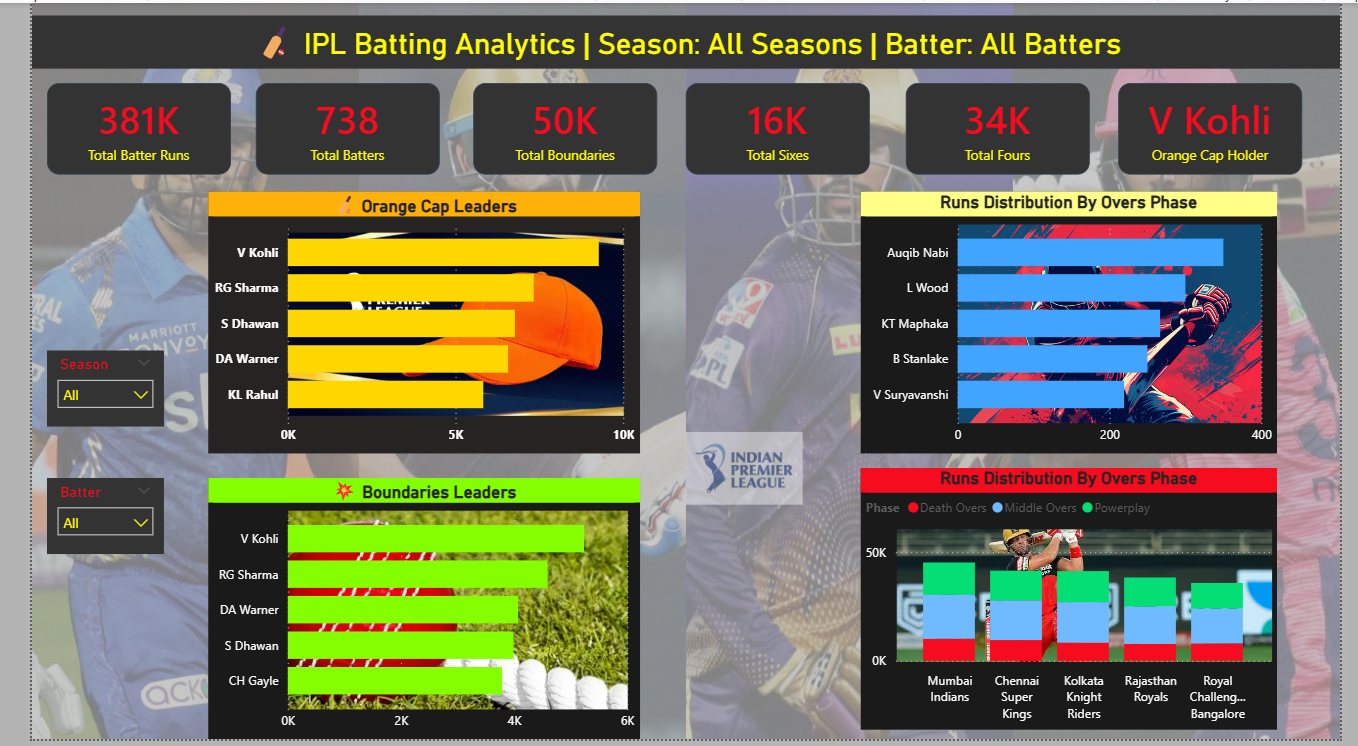

What the dashboard file says about the page in this screenshot:
{"tool":"powerbi","page":{"name":"Batsmen Analytics","canvas":[1280,720],"ordinal":1},"visuals":[{"type":"clusteredBarChart","title":"🏏 Orange Cap Leaders","fields":{"Category":["Fact_BallbyBall.Batter"],"Y":["Fact_BallbyBall.Total Batter Runs"]},"box":[171.9,184.3,422.2,255.8],"z":0},{"type":"clusteredBarChart","title":" 💥 Boundaries Leaders","fields":{"Category":["Fact_BallbyBall.Batter"],"Y":["Fact_BallbyBall.Boundary Runs"]},"box":[171.9,464.8,422.2,255.8],"z":1000},{"type":"columnChart","title":"Runs Distribution By Overs Phase","fields":{"Category":["Fact_BallbyBall.BattingTeam"],"Series":["Fact_BallbyBall.Phase"],"Y":["Fact_BallbyBall.Phase Runs"]},"box":[811.3,455.2,407,255.8],"z":2000},{"type":"clusteredBarChart","title":"Runs Distribution By Overs Phase","fields":{"Category":["Fact_BallbyBall.Batter"],"Y":["Fact_BallbyBall.Strike Rate"]},"box":[811.3,184.3,407,255.8],"z":3000},{"type":"card","fields":{"Values":["Fact_Match.Total Batters"]},"box":[218.7,78.4,180.1,89.4],"z":4000},{"type":"card","fields":{"Values":["Fact_BallbyBall.Total Batter Runs"]},"box":[15.1,78.4,180.1,89.4],"z":5000},{"type":"card","fields":{"Values":["Fact_Match.Total Boundaries"]},"box":[431.8,78.4,180.1,89.4],"z":6000},{"type":"card","fields":{"Values":["Fact_Match.Total Sixes"]},"box":[639.5,78.4,180.1,89.4],"z":7000},{"type":"card","fields":{"Values":["Fact_Match.Total Fours"]},"box":[855.4,78.4,180.1,89.4],"z":8000},{"type":"card","fields":{"Values":["Fact_Match.Orange Cap Holder"]},"box":[1063,78.4,180.1,89.4],"z":9000},{"type":"slicer","fields":{"Values":["Fact_Match.Season"]},"box":[15.1,339.7,114.1,74.3],"z":10000},{"type":"slicer","fields":{"Values":["Fact_BallbyBall.Batter"]},"box":[15.1,464.8,114.1,74.3],"z":11000},{"type":"image","box":[639.5,385,114.1,140.3],"z":12000},{"type":"card","fields":{"Values":["Fact_Match.Batting Dashboard Title"]},"box":[0,12.4,1280.3,52.3],"z":13000}]}

Visuals, with their boxes in screenshot pixels (x1, y1, x2, y2), scaled from the page's 1280x720 canvas onto the 1358x746 screenshot:
"🏏 Orange Cap Leaders" clusteredBarChart: region(182, 191, 630, 456)
" 💥 Boundaries Leaders" clusteredBarChart: region(182, 482, 630, 745)
"Runs Distribution By Overs Phase" columnChart: region(861, 472, 1293, 737)
"Runs Distribution By Overs Phase" clusteredBarChart: region(861, 191, 1293, 456)
card - Fact_Match.Total Batters: region(232, 81, 423, 174)
card - Fact_BallbyBall.Total Batter Runs: region(16, 81, 207, 174)
card - Fact_Match.Total Boundaries: region(458, 81, 649, 174)
card - Fact_Match.Total Sixes: region(678, 81, 870, 174)
card - Fact_Match.Total Fours: region(908, 81, 1099, 174)
card - Fact_Match.Orange Cap Holder: region(1128, 81, 1319, 174)
slicer - Fact_Match.Season: region(16, 352, 137, 429)
slicer - Fact_BallbyBall.Batter: region(16, 482, 137, 559)
image: region(678, 399, 800, 544)
card - Fact_Match.Batting Dashboard Title: region(0, 13, 1357, 67)
